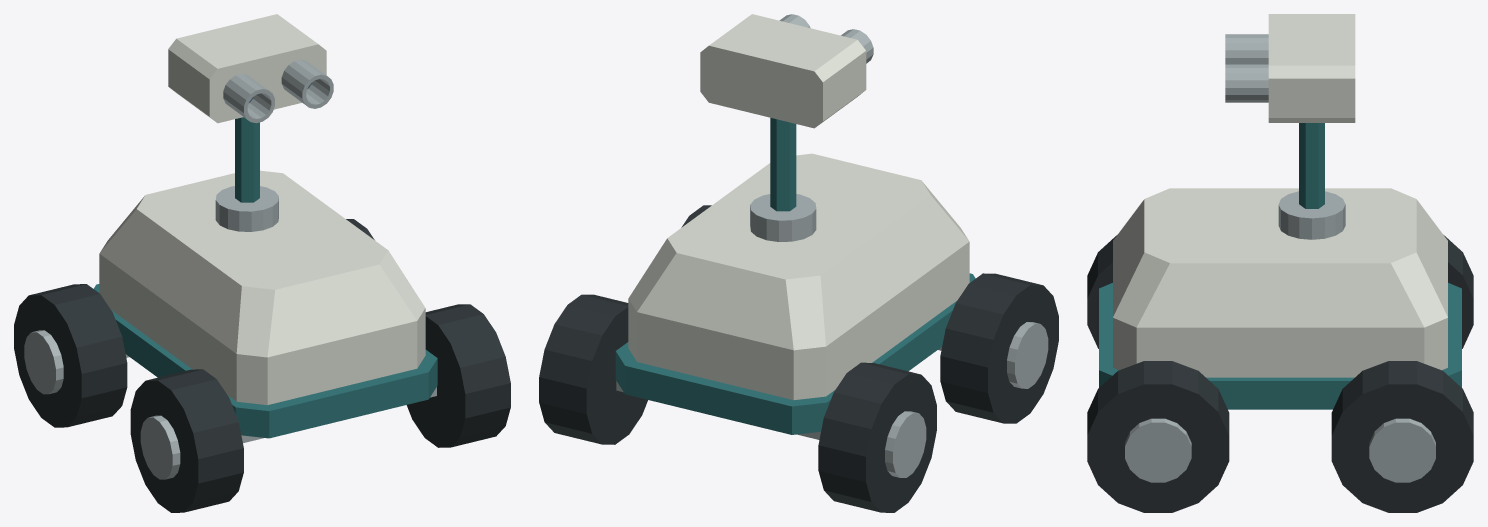
3 views of the same model, side by side, from view 1: azimuth 30°, elevation 25°; view 2: azimuth 150°, elevation 25°; view 3: azimuth 270°, elevation 25° (orthographic). The views are drawn at different scales.
Visible parts, largest first — view 1: ContinuousSlopedElectronicsHousing, RearLeftWheel, FrontLeftWheel, FrontRightWheel, ChamferedTwinCameraHead, ChamferedLowChassis, RoundMastSeat, HexagonalSensorMast, FrontLeftOuterHub, RearLeftOuterHub, RightOpenLensHood, LeftOpenLensHood; view 2: ContinuousSlopedElectronicsHousing, ChamferedTwinCameraHead, FrontLeftWheel, RearLeftWheel, RearRightWheel, ChamferedLowChassis, RoundMastSeat, HexagonalSensorMast, FrontLeftOuterHub, RearLeftOuterHub; view 3: ContinuousSlopedElectronicsHousing, FrontRightWheel, RearRightWheel, ChamferedTwinCameraHead, ChamferedLowChassis, FrontRightOuterHub, RearRightOuterHub, RoundMastSeat, HexagonalSensorMast, RightOpenLensHood, FrontLeftWheel, RearLeftWheel (+1 smaller).
Boxes of the visible parts, x1=… form: ContinuousSlopedElectronicsHousing: x1=99, y1=170, x2=425, y2=405; RearLeftWheel: x1=14, y1=284, x2=127, y2=427; FrontLeftWheel: x1=130, y1=369, x2=243, y2=512; FrontRightWheel: x1=406, y1=304, x2=510, y2=447; ChamferedTwinCameraHead: x1=168, y1=14, x2=326, y2=123; ChamferedLowChassis: x1=93, y1=284, x2=437, y2=438; RoundMastSeat: x1=215, y1=186, x2=278, y2=231; HexagonalSensorMast: x1=235, y1=117, x2=259, y2=202; FrontLeftOuterHub: x1=140, y1=415, x2=180, y2=479; RearLeftOuterHub: x1=24, y1=330, x2=63, y2=394; RightOpenLensHood: x1=281, y1=59, x2=333, y2=108; LeftOpenLensHood: x1=223, y1=74, x2=274, y2=123; ContinuousSlopedElectronicsHousing: x1=628, y1=153, x2=969, y2=400; ChamferedTwinCameraHead: x1=700, y1=14, x2=866, y2=128; FrontLeftWheel: x1=940, y1=273, x2=1058, y2=423; RearLeftWheel: x1=818, y1=362, x2=936, y2=512; RearRightWheel: x1=539, y1=294, x2=647, y2=444; ChamferedLowChassis: x1=615, y1=273, x2=975, y2=434; RoundMastSeat: x1=750, y1=194, x2=816, y2=241; HexagonalSensorMast: x1=770, y1=118, x2=796, y2=211; FrontLeftOuterHub: x1=1007, y1=322, x2=1048, y2=388; RearLeftOuterHub: x1=885, y1=411, x2=926, y2=477; ContinuousSlopedElectronicsHousing: x1=1113, y1=188, x2=1447, y2=377; FrontRightWheel: x1=1087, y1=361, x2=1229, y2=512; RearRightWheel: x1=1331, y1=361, x2=1473, y2=512; ChamferedTwinCameraHead: x1=1268, y1=14, x2=1355, y2=122; ChamferedLowChassis: x1=1099, y1=283, x2=1461, y2=409; FrontRightOuterHub: x1=1125, y1=418, x2=1191, y2=482; RearRightOuterHub: x1=1369, y1=418, x2=1435, y2=482; RoundMastSeat: x1=1278, y1=191, x2=1345, y2=239; HexagonalSensorMast: x1=1299, y1=123, x2=1324, y2=208; RightOpenLensHood: x1=1225, y1=64, x2=1268, y2=102; FrontLeftWheel: x1=1087, y1=235, x2=1116, y2=348; RearLeftWheel: x1=1444, y1=235, x2=1473, y2=348.
Bounding box in the file's own units: 1.01 × 1.1 × 0.98.
